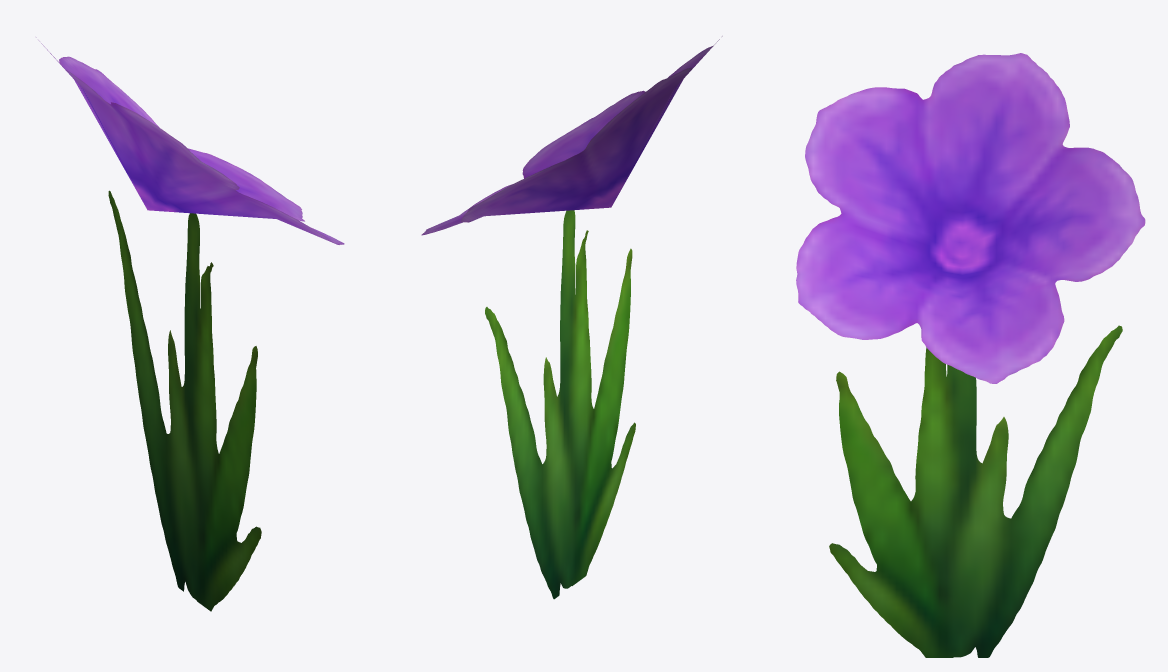
The model's file is flower_04.FBX.
3 views of the same model, side by side, from view 1: azimuth 30°, elevation 25°; view 2: azimuth 150°, elevation 25°; view 3: azimuth 270°, elevation 25° (orthographic). The views are drawn at different scales.
Parts seen in each view (by area): view 1: Plane020; view 2: Plane020; view 3: Plane020.
Boxes of the visible parts, box(x1,y1,x2,y2) form: Plane020: box(36, 37, 344, 611); Plane020: box(421, 36, 722, 599); Plane020: box(796, 53, 1145, 657).
Bounding box in the file's own units: 0.4087 × 0.7619 × 0.462.
